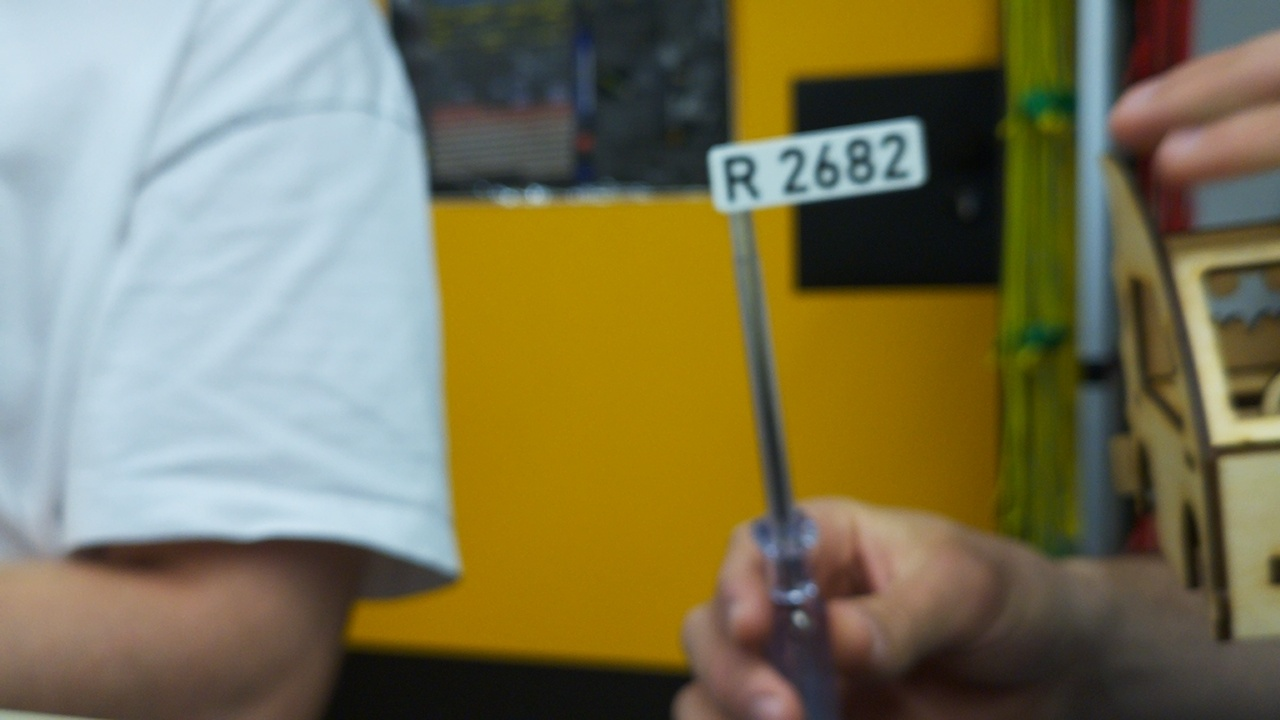license_plate: (703, 114, 930, 217)
